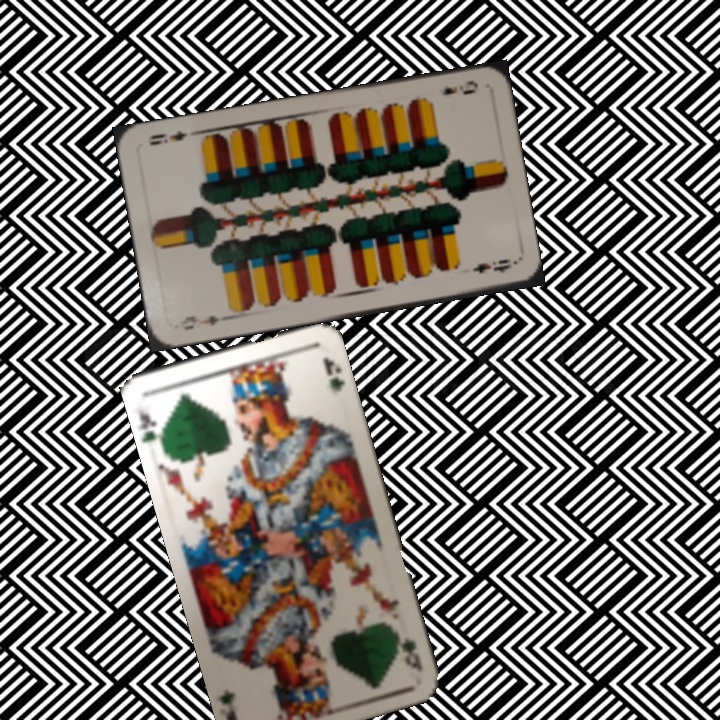E9: (176, 311, 230, 333), (438, 76, 481, 98)
GK: (390, 626, 425, 675), (135, 406, 167, 449)
